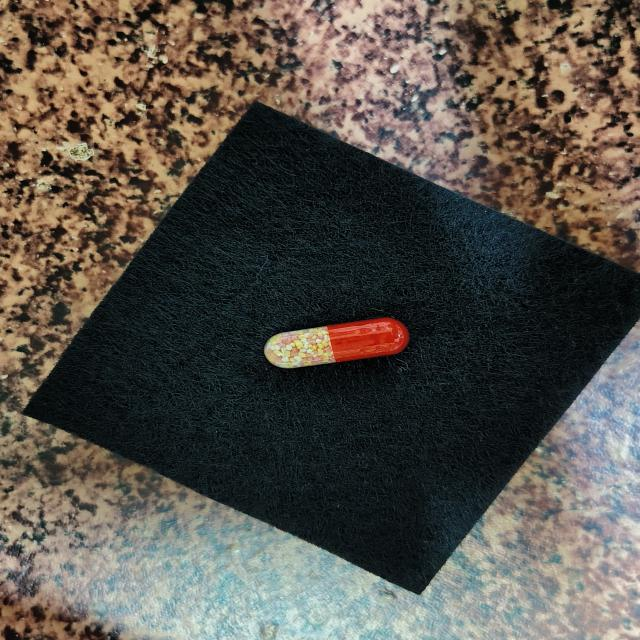Intact Capsule: (264, 317, 409, 368)
